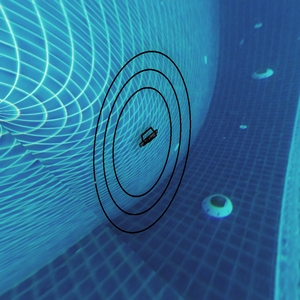submarine: (136, 128, 158, 149)
